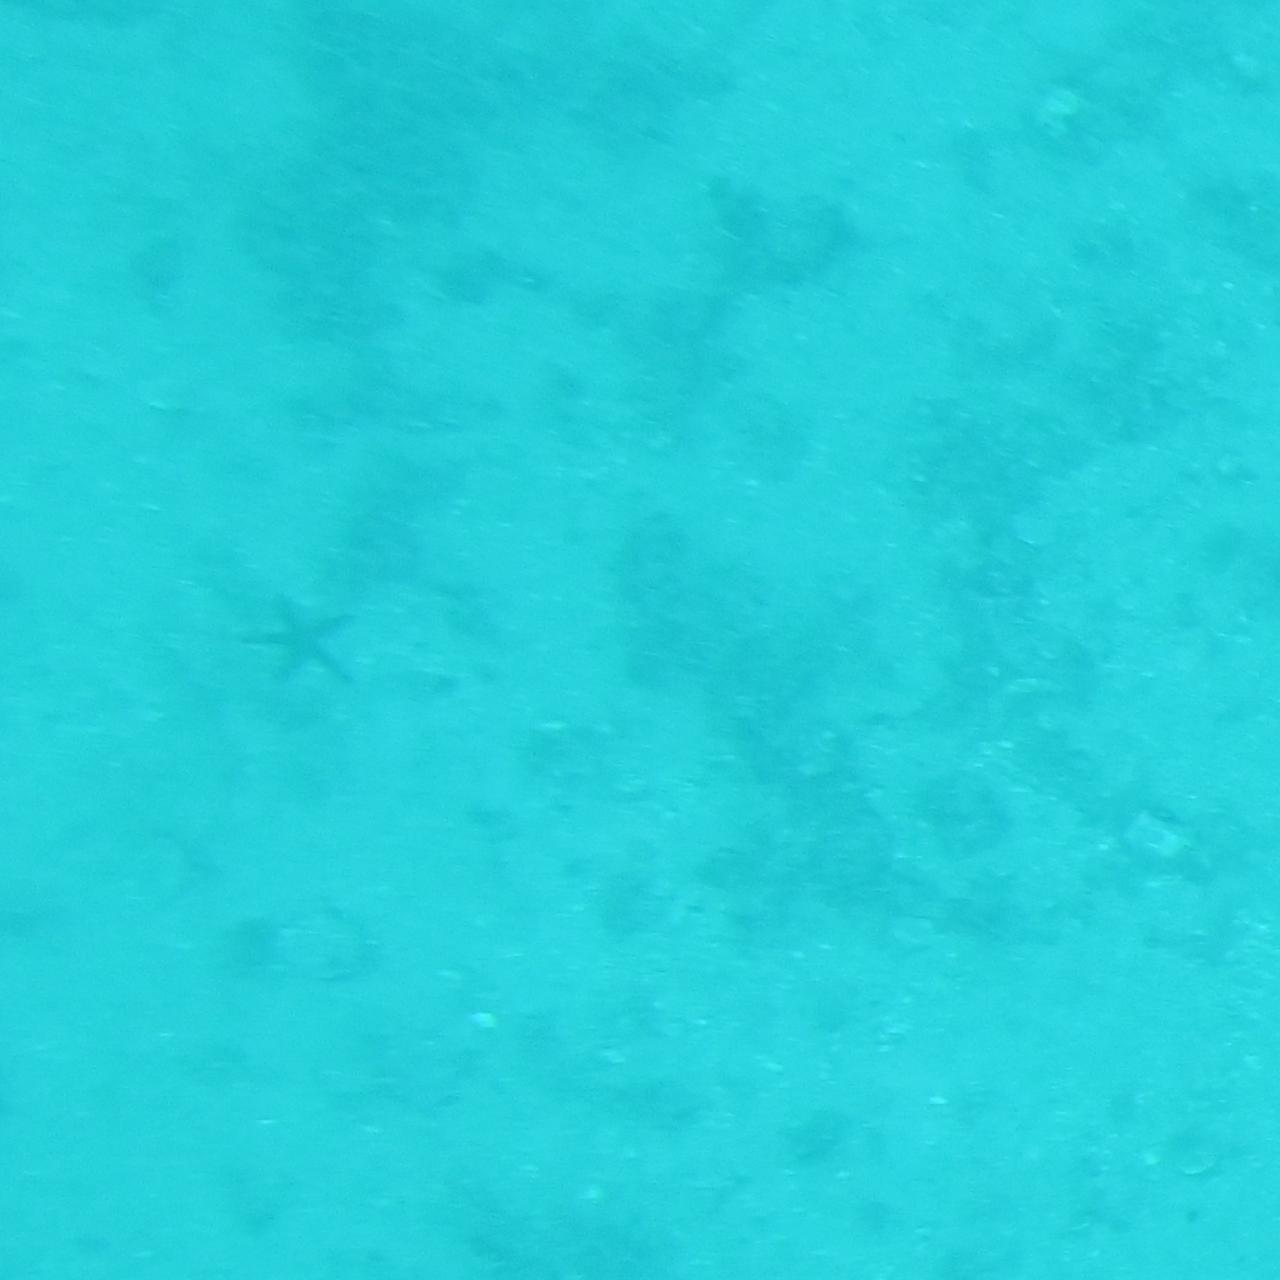Asteroidea: (226, 571, 377, 709)
